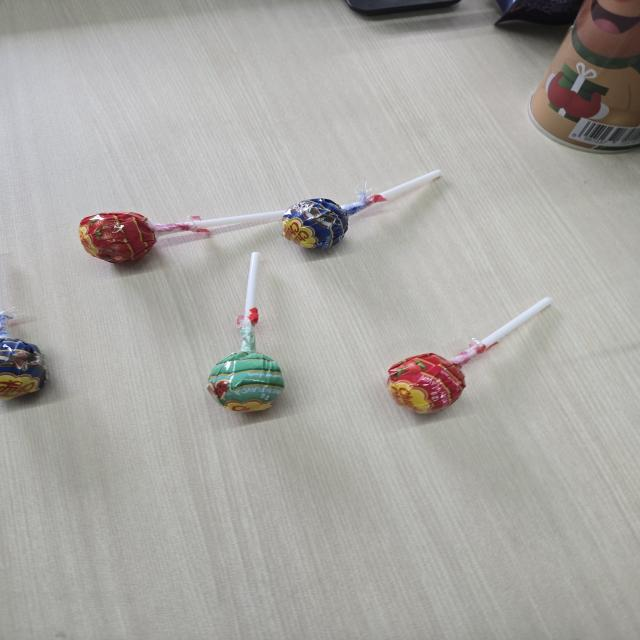lollipop: (383, 293, 559, 421), (277, 162, 445, 258), (204, 247, 287, 422), (75, 205, 288, 272), (1, 318, 49, 407)
